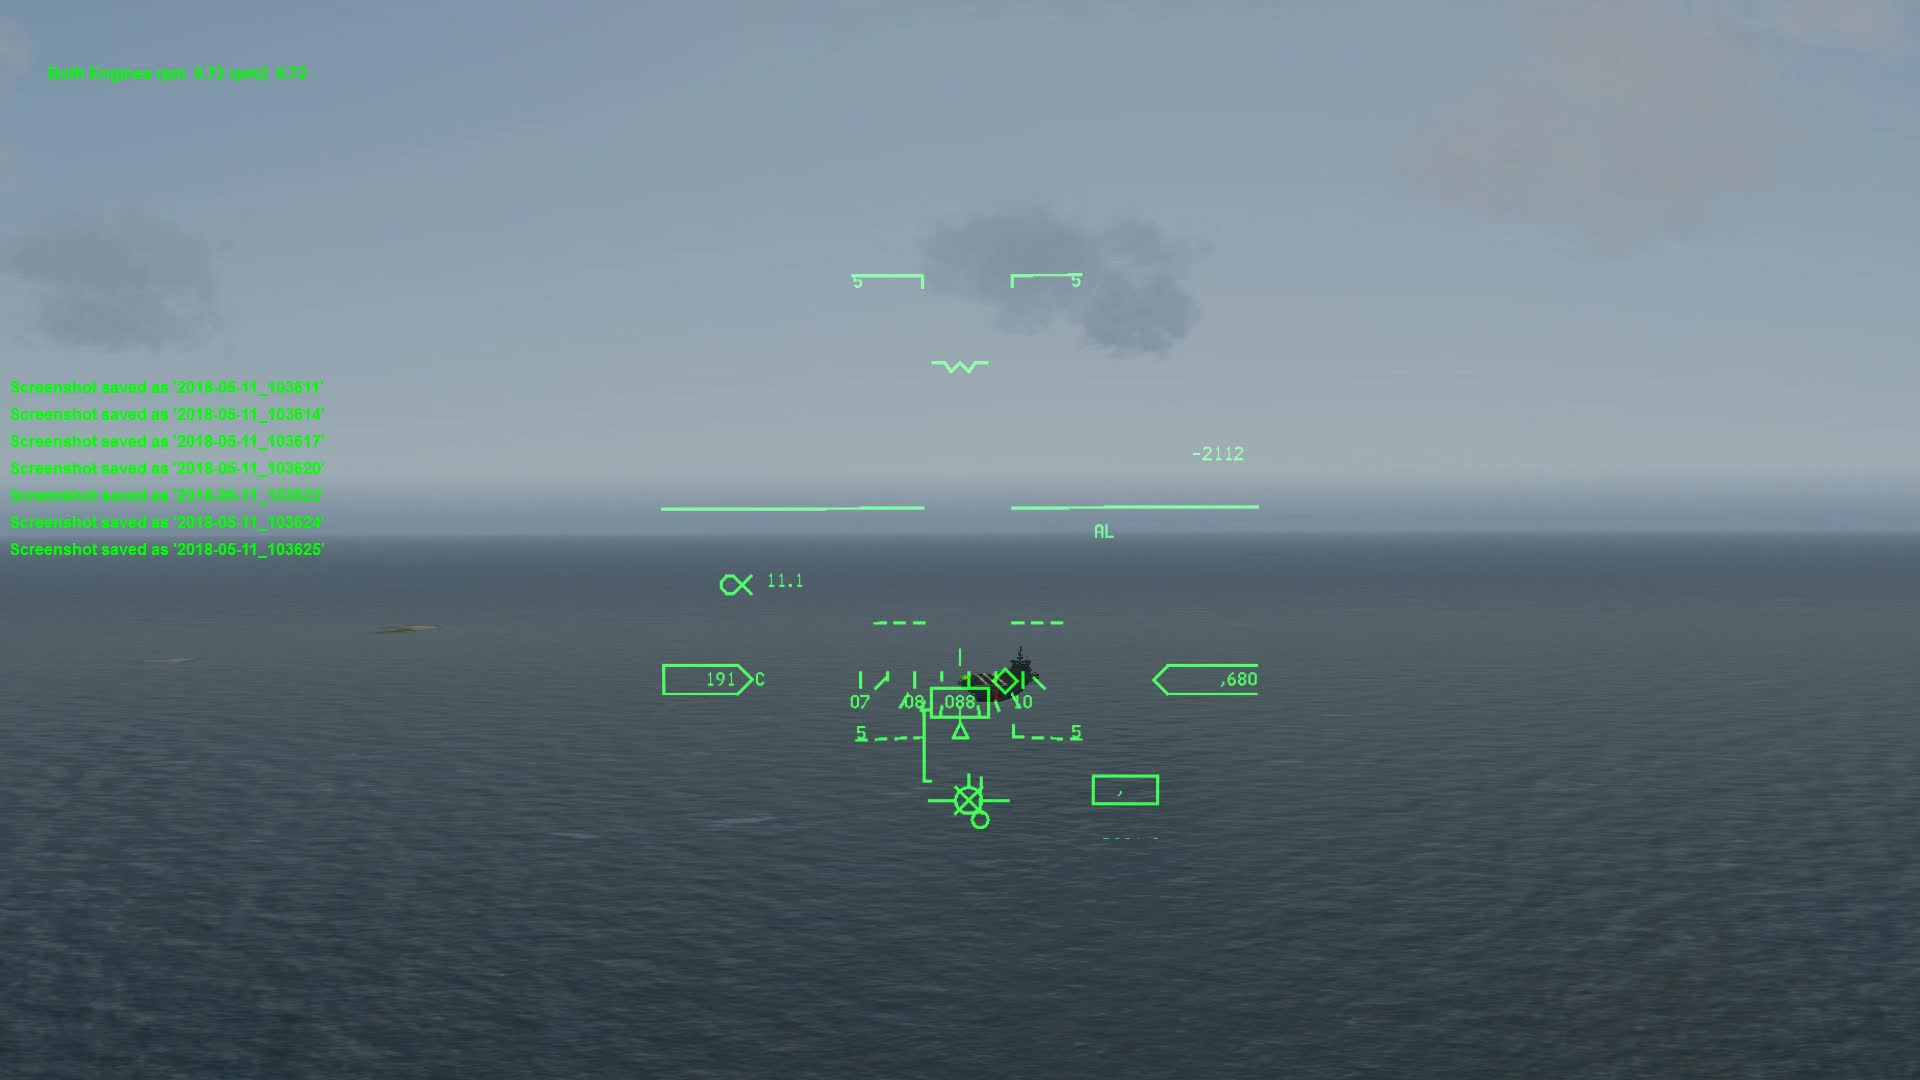speed vector: (928, 773, 1011, 814)
